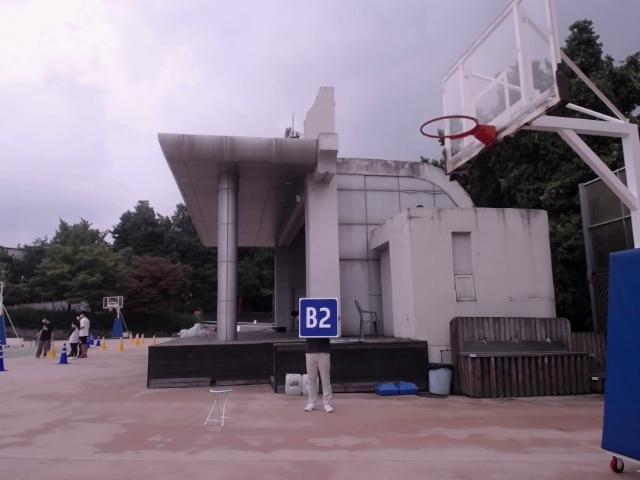delivery_b2: (299, 297, 337, 337)
